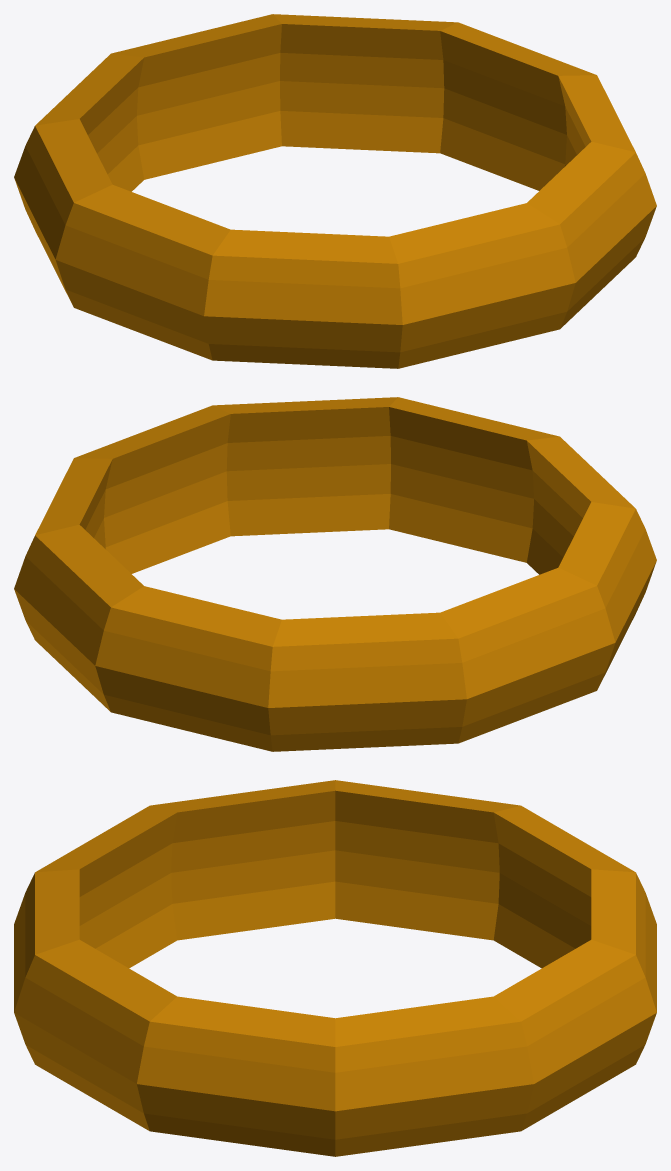
Rendered from Bracelet_03.fbx.
The picture shows the model from 3 angles, top to bottom: view 1: azimuth 30°, elevation 25°; view 2: azimuth 150°, elevation 25°; view 3: azimuth 270°, elevation 25°; orthographic projection. The views are drawn at different scales.
Parts seen in each view (by area): view 1: Bracelet_03; view 2: Bracelet_03; view 3: Bracelet_03.
Part boxes in pixels (box(x1,y1,x2,y2)): Bracelet_03: box(14, 14, 656, 368); Bracelet_03: box(14, 397, 656, 751); Bracelet_03: box(14, 780, 656, 1156).
Size of the model in its own units: 3.2 by 0.6689 by 3.05.
